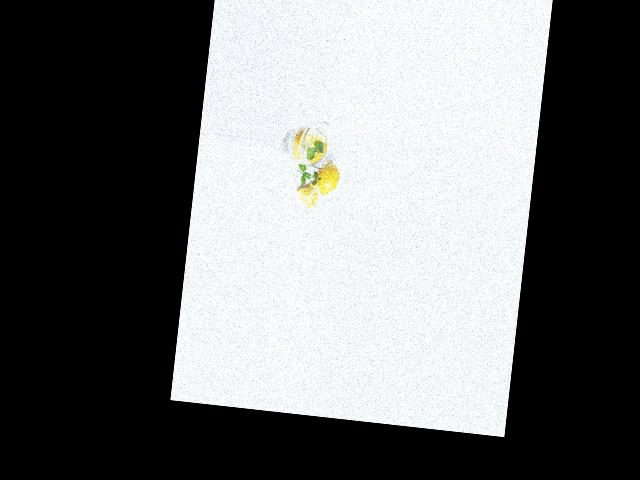lemon: (311, 155, 342, 196)
